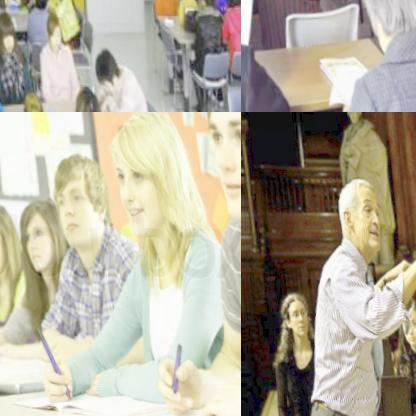head: (106, 112, 202, 244), (40, 143, 113, 246), (194, 112, 241, 232), (13, 194, 68, 277), (335, 175, 382, 252), (353, 0, 416, 49), (0, 202, 21, 279), (275, 288, 306, 337), (92, 42, 120, 95), (394, 293, 416, 345), (68, 80, 97, 112), (40, 10, 60, 47), (0, 8, 15, 52), (16, 87, 38, 112), (220, 0, 237, 6)
